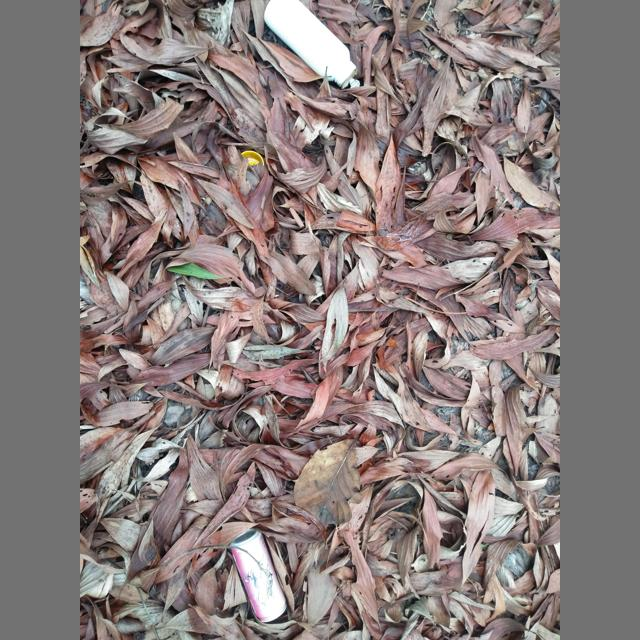litter: (264, 0, 357, 88), (230, 530, 287, 622), (241, 151, 264, 166)
